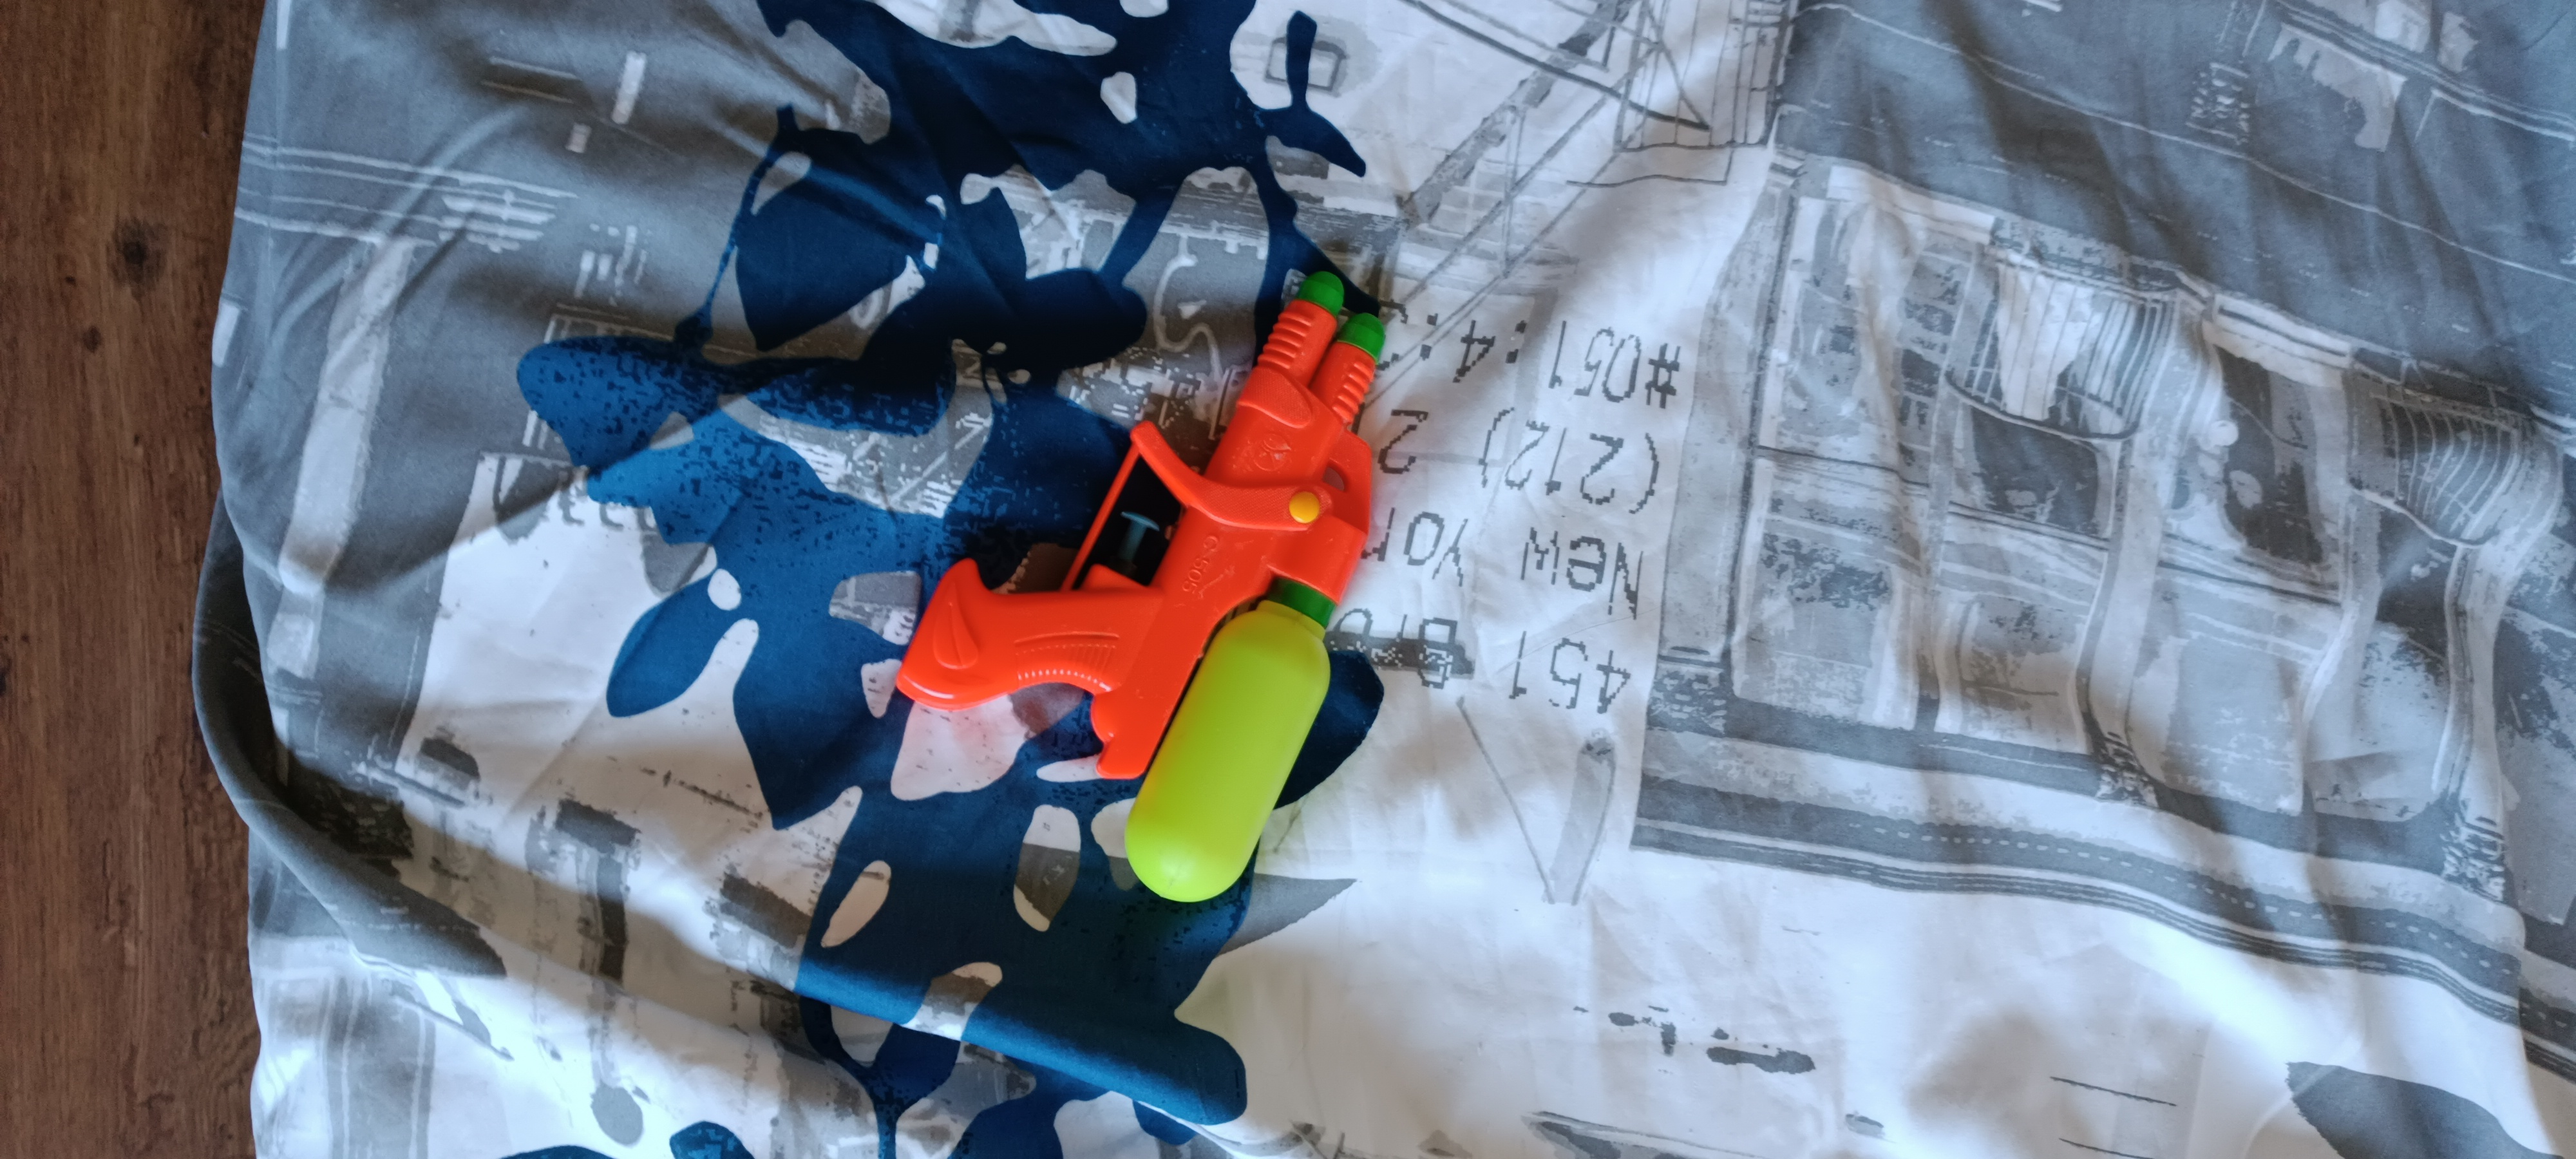Water Gun: (895, 269, 1387, 903)
